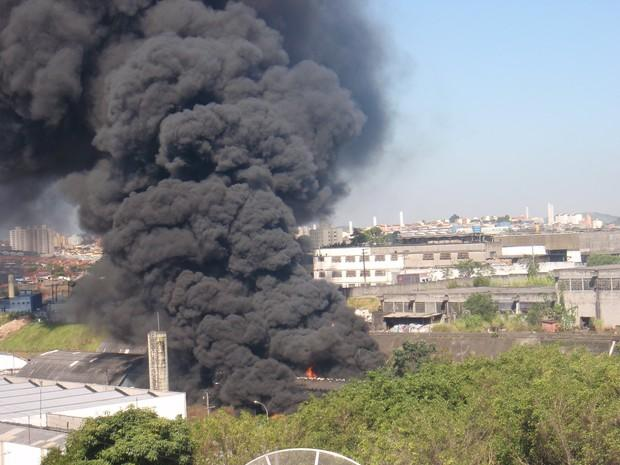smoke: (106, 35, 291, 316)
